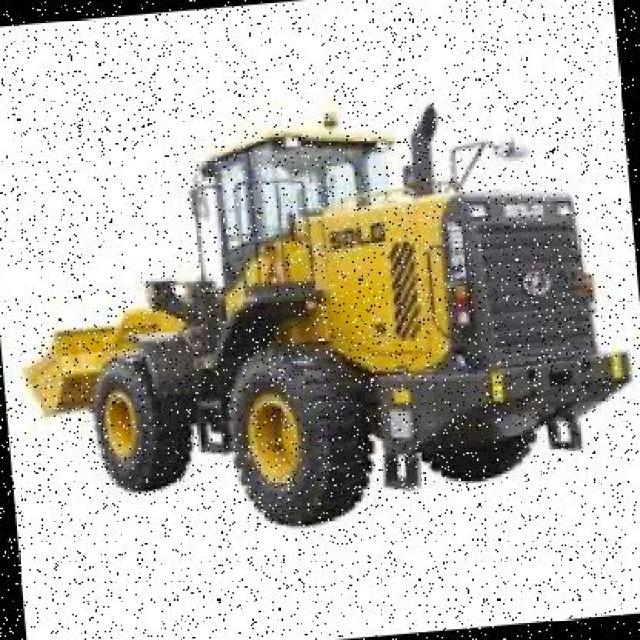buldozerpayloadergrader: (0, 78, 640, 550)
